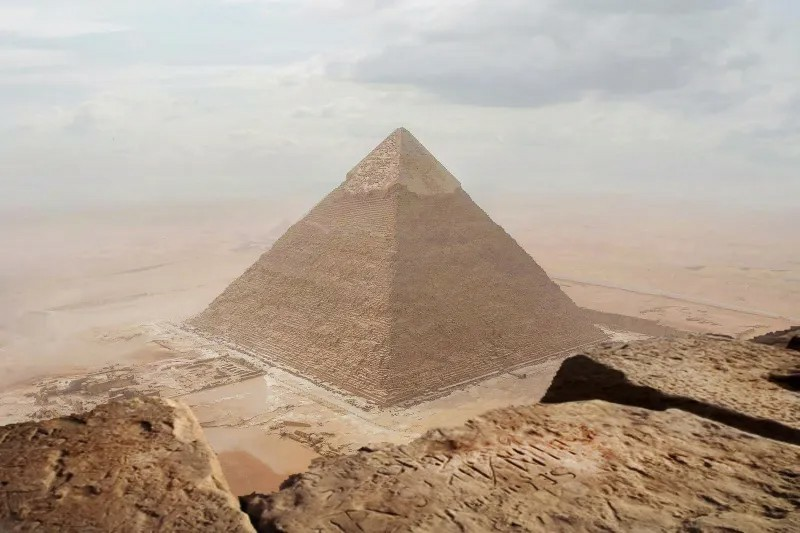Pyramid: (185, 128, 609, 404)
